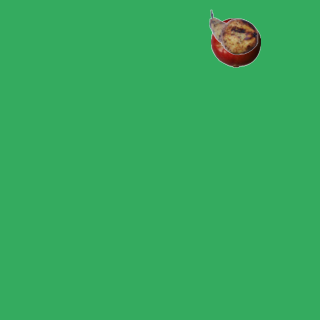Apple Braeburn: (210, 17, 260, 67)
Pear Abate: (208, 7, 258, 57)
